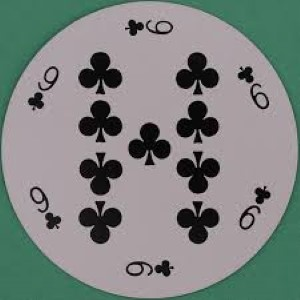NineOfClubs: (1, 1, 298, 298)
